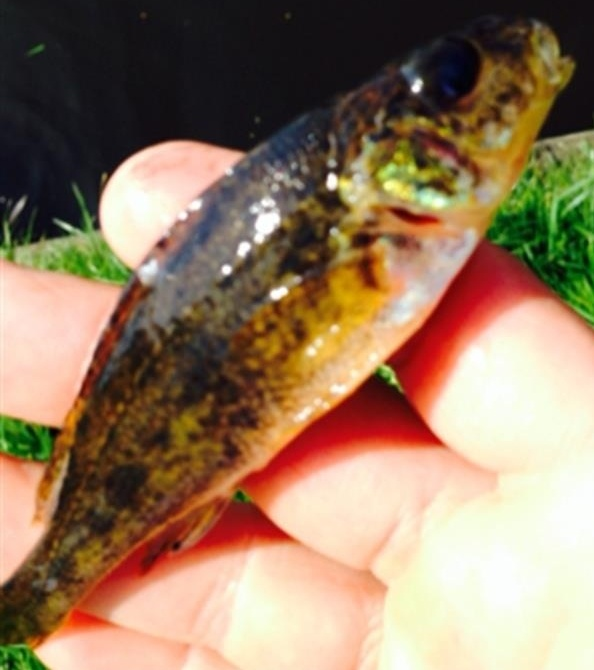Gymnocephalus cernuus: (1, 20, 574, 650)
